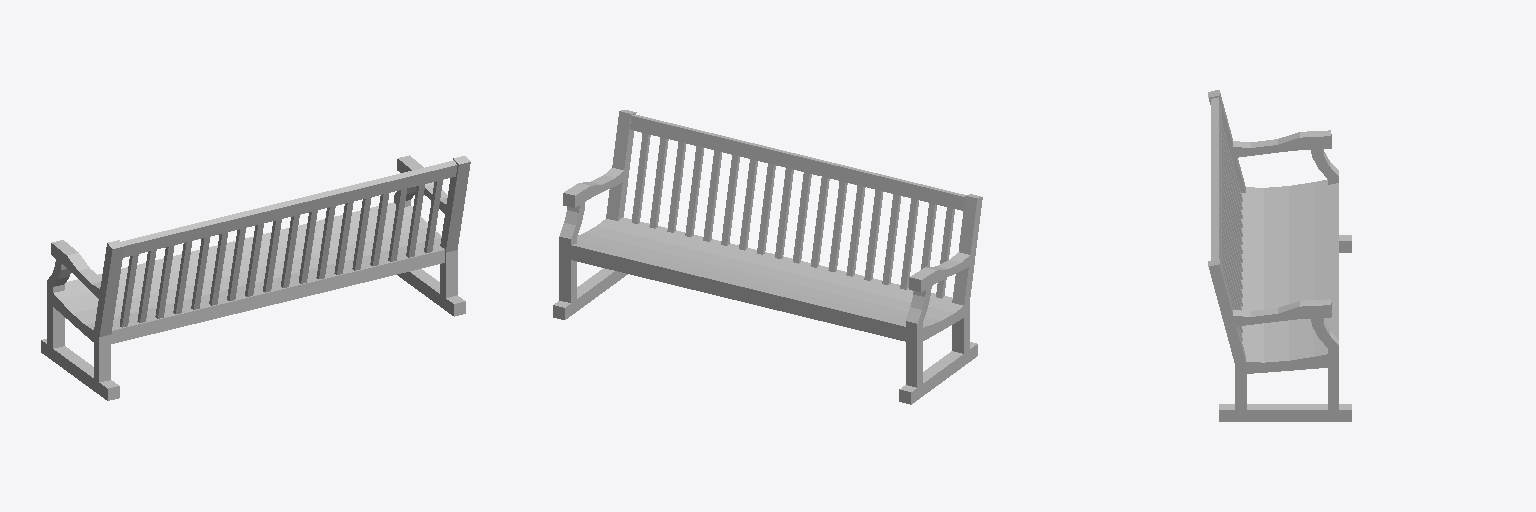
Rendered from oldbench1.obj.
3 renders of one model, left to right at view 1: azimuth 30°, elevation 25°; view 2: azimuth 150°, elevation 25°; view 3: azimuth 270°, elevation 25°, orthographic.
Parts seen in each view (by area): view 1: Cube_Cube.002, Plane.004_Plane.001, Plane.003_Plane; view 2: Cube_Cube.002, Plane.004_Plane.001, Plane.003_Plane; view 3: Cube_Cube.002, Plane.003_Plane, Plane.004_Plane.001.
Part boxes in pixels (left/top/right/bottom): Cube_Cube.002: left=48, top=160, right=457, bottom=343; Plane.004_Plane.001: left=120, top=180, right=442, bottom=327; Plane.003_Plane: left=41, top=155, right=470, bottom=400; Cube_Cube.002: left=571, top=114, right=980, bottom=343; Plane.004_Plane.001: left=632, top=133, right=954, bottom=298; Plane.003_Plane: left=553, top=110, right=982, bottom=404; Cube_Cube.002: left=1211, top=97, right=1338, bottom=373; Plane.003_Plane: left=1208, top=90, right=1351, bottom=421; Plane.004_Plane.001: left=1222, top=124, right=1242, bottom=340.
Bounding box in the file's own units: 2.4 × 1.01 × 0.8299.